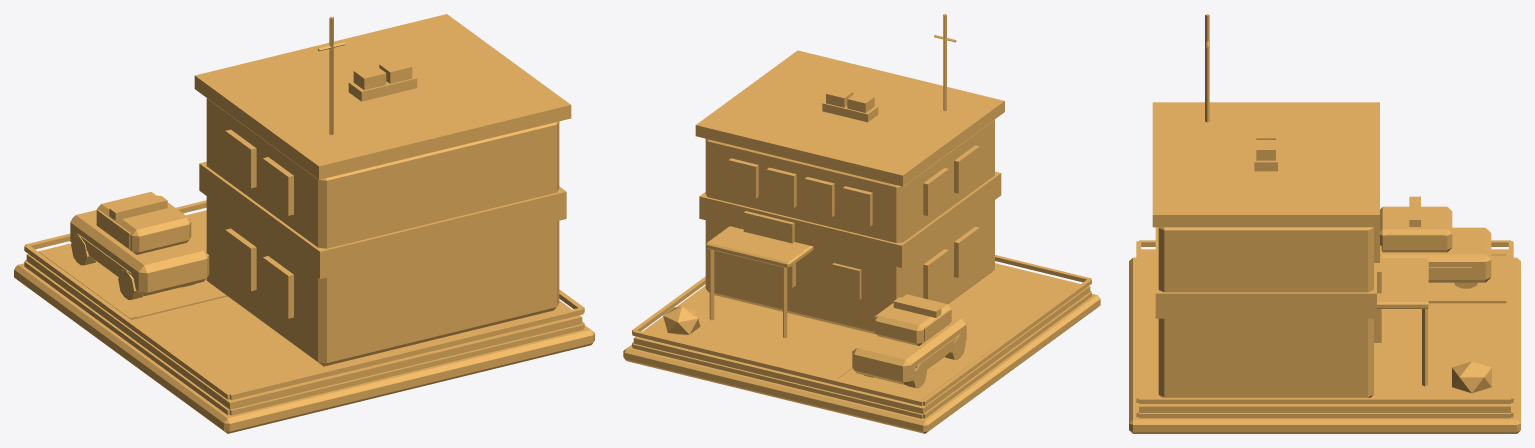
3 views of the same model, side by side, from view 1: azimuth 30°, elevation 25°; view 2: azimuth 150°, elevation 25°; view 3: azimuth 270°, elevation 25° (orthographic). The views are drawn at different scales.
Parts seen in each view (by area): view 1: corpo; view 2: corpo; view 3: corpo.
Part boxes in pixels (bbox=[...]): corpo: bbox=[14, 14, 594, 433]; corpo: bbox=[623, 14, 1100, 433]; corpo: bbox=[1129, 14, 1520, 433].
Size of the model in its own units: 2 by 1.81 by 2.
